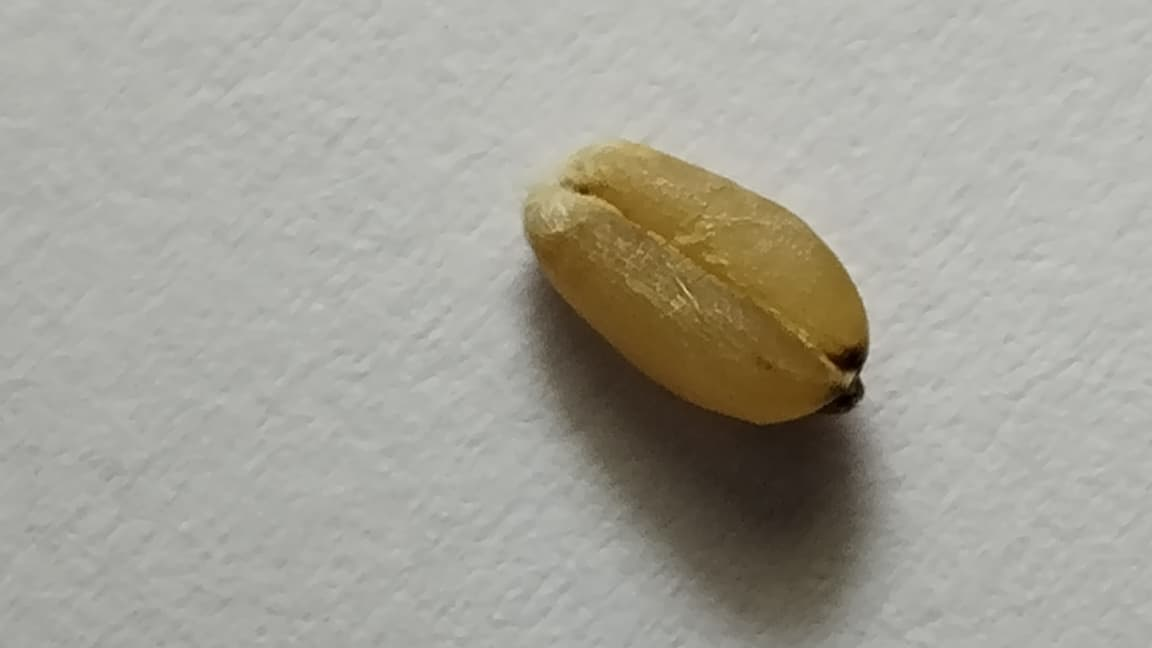healthy: (525, 141, 868, 422)
